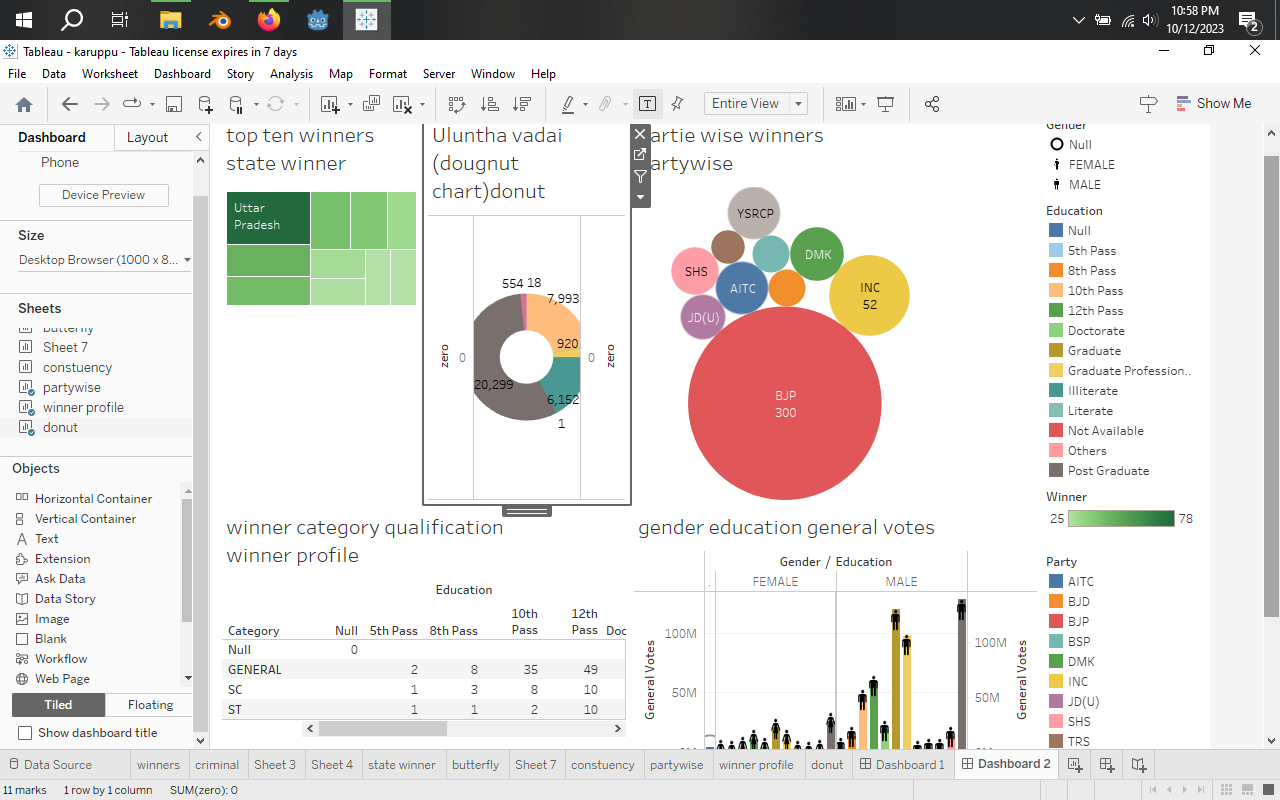

This screenshot's page, from the dashboard's own definition file:
{"tool":"tableau","page":{"name":"Dashboard 2","canvas":[1000,800],"ordinal":1},"visuals":[{"type":"worksheet","title":"state winner","mark":"Automatic","box":[8,8,206,392]},{"type":"worksheet","title":"donut","mark":"Pie","rows":["Calculation_605734160658624512","Calculation_605734160658624512"],"box":[214,8,206,392]},{"type":"worksheet","title":"partywise","mark":"Circle","box":[420,8,412,392]},{"type":"legend","title":"Sheet 4","param":"[federated.0i64tj6190rcs61asqhf51gzl9pc].[none:GENDER:nk]","box":[832,8,160,86]},{"type":"legend","title":"Sheet 4","param":"[federated.0i64tj6190rcs61asqhf51gzl9pc].[none:EDUCATION:nk]","box":[832,94,160,286]},{"type":"legend","title":"state winner","param":"[federated.0i64tj6190rcs61asqhf51gzl9pc].[sum:WINNER:qk]","box":[832,380,160,65]},{"type":"worksheet","title":"winner profile","mark":"Automatic","rows":["CATEGORY"],"cols":["EDUCATION"],"box":[8,400,412,392]},{"type":"worksheet","title":"Sheet 4","mark":"Automatic","rows":["GENERAL VOTES","GENERAL VOTES"],"cols":["GENDER","EDUCATION"],"box":[420,400,412,392]},{"type":"legend","title":"partywise","param":"[federated.0i64tj6190rcs61asqhf51gzl9pc].[none:PARTY:nk]","box":[832,445,160,226]}]}

Visuals, with their boxes on the page's 1000x800 design canvas (x1, y1, x2, y2). These are canvas units, not pixel positions in the 1280x800 screenshot, which may show the page scaled, cropped or inside an application window:
"state winner" worksheet: 8, 8, 214, 400
"donut" worksheet (Pie marks): 214, 8, 420, 400
"partywise" worksheet (Circle marks): 420, 8, 832, 400
"Sheet 4" legend: 832, 8, 992, 94
"Sheet 4" legend: 832, 94, 992, 380
"state winner" legend: 832, 380, 992, 445
"winner profile" worksheet: 8, 400, 420, 792
"Sheet 4" worksheet: 420, 400, 832, 792
"partywise" legend: 832, 445, 992, 671
